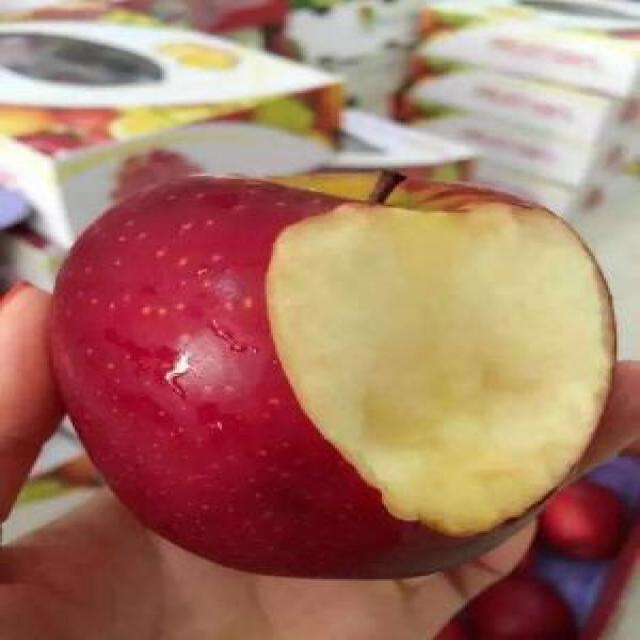Apple: (47, 163, 618, 583)
